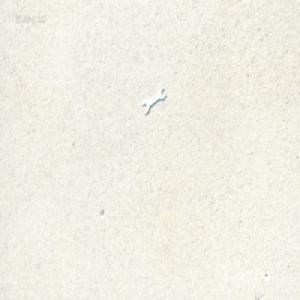Wrench: (142, 85, 165, 115)
